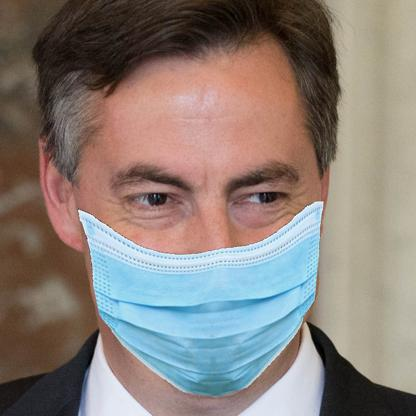mask: (74, 205, 325, 399)
